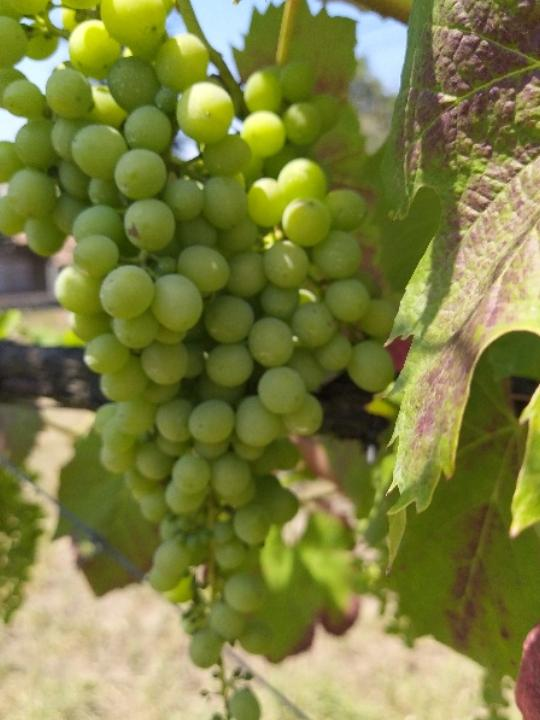grape: (0, 0, 392, 720)
